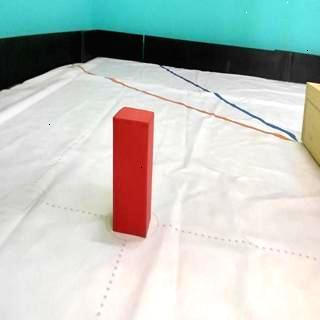redbox: (114, 105, 154, 238)
